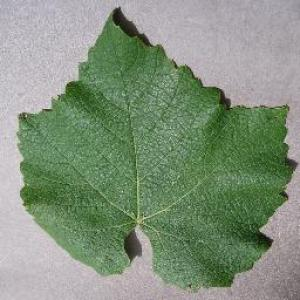Folha: (15, 6, 294, 292)
